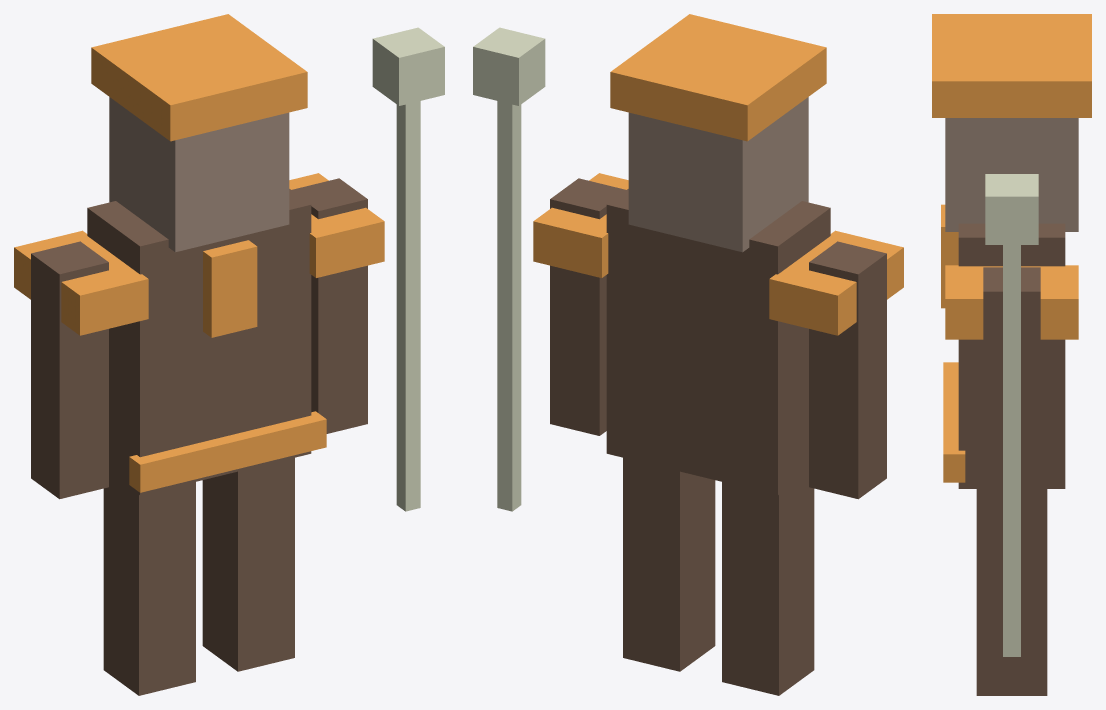
Rendered from 01_noor_cragwarden_engineer_under_archive.glb.
3 views of the same model, side by side, from view 1: azimuth 30°, elevation 25°; view 2: azimuth 150°, elevation 25°; view 3: azimuth 270°, elevation 25° (orthographic).
Parts seen in each view (by area): view 1: Noor Cragwarden, Engineer under Archive; view 2: Noor Cragwarden, Engineer under Archive; view 3: Noor Cragwarden, Engineer under Archive.
Part boxes in pixels (x1,y1,x2,y2): Noor Cragwarden, Engineer under Archive: [14, 14, 444, 695]; Noor Cragwarden, Engineer under Archive: [473, 14, 903, 695]; Noor Cragwarden, Engineer under Archive: [932, 14, 1091, 695].
Bounding box in the file's own units: 0.9435 × 1.41 × 0.3347.
